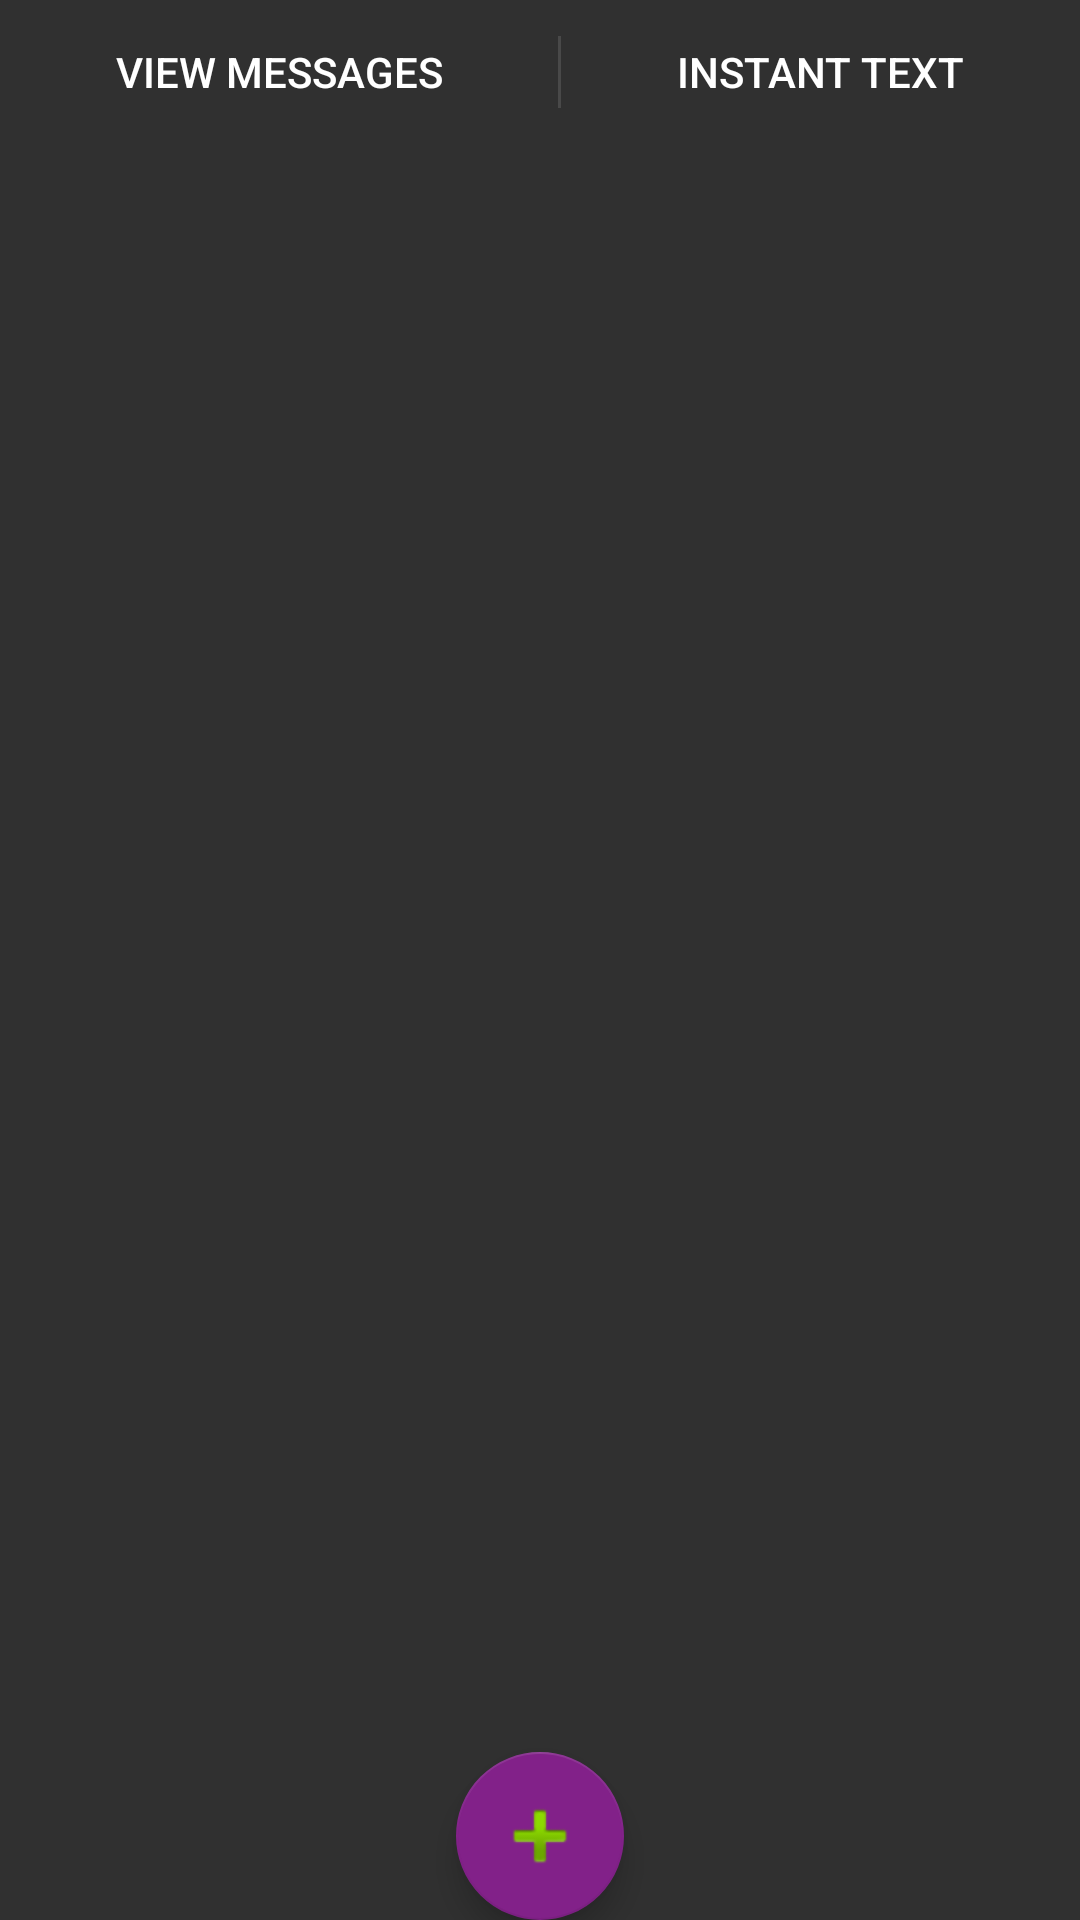

Point at icon controls on the screen. Image size 1080px×1920px, points as [x,y].
add: [540,1836]
